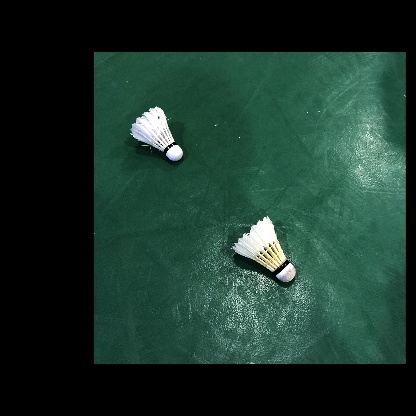ball_single: (232, 215, 295, 282), (130, 106, 183, 161)
